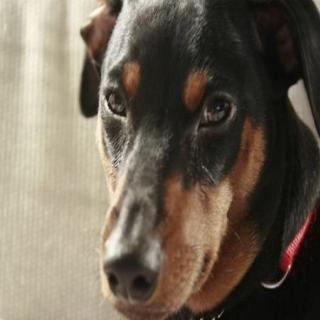dog: (61, 0, 320, 319)
nose: (97, 243, 165, 304)
